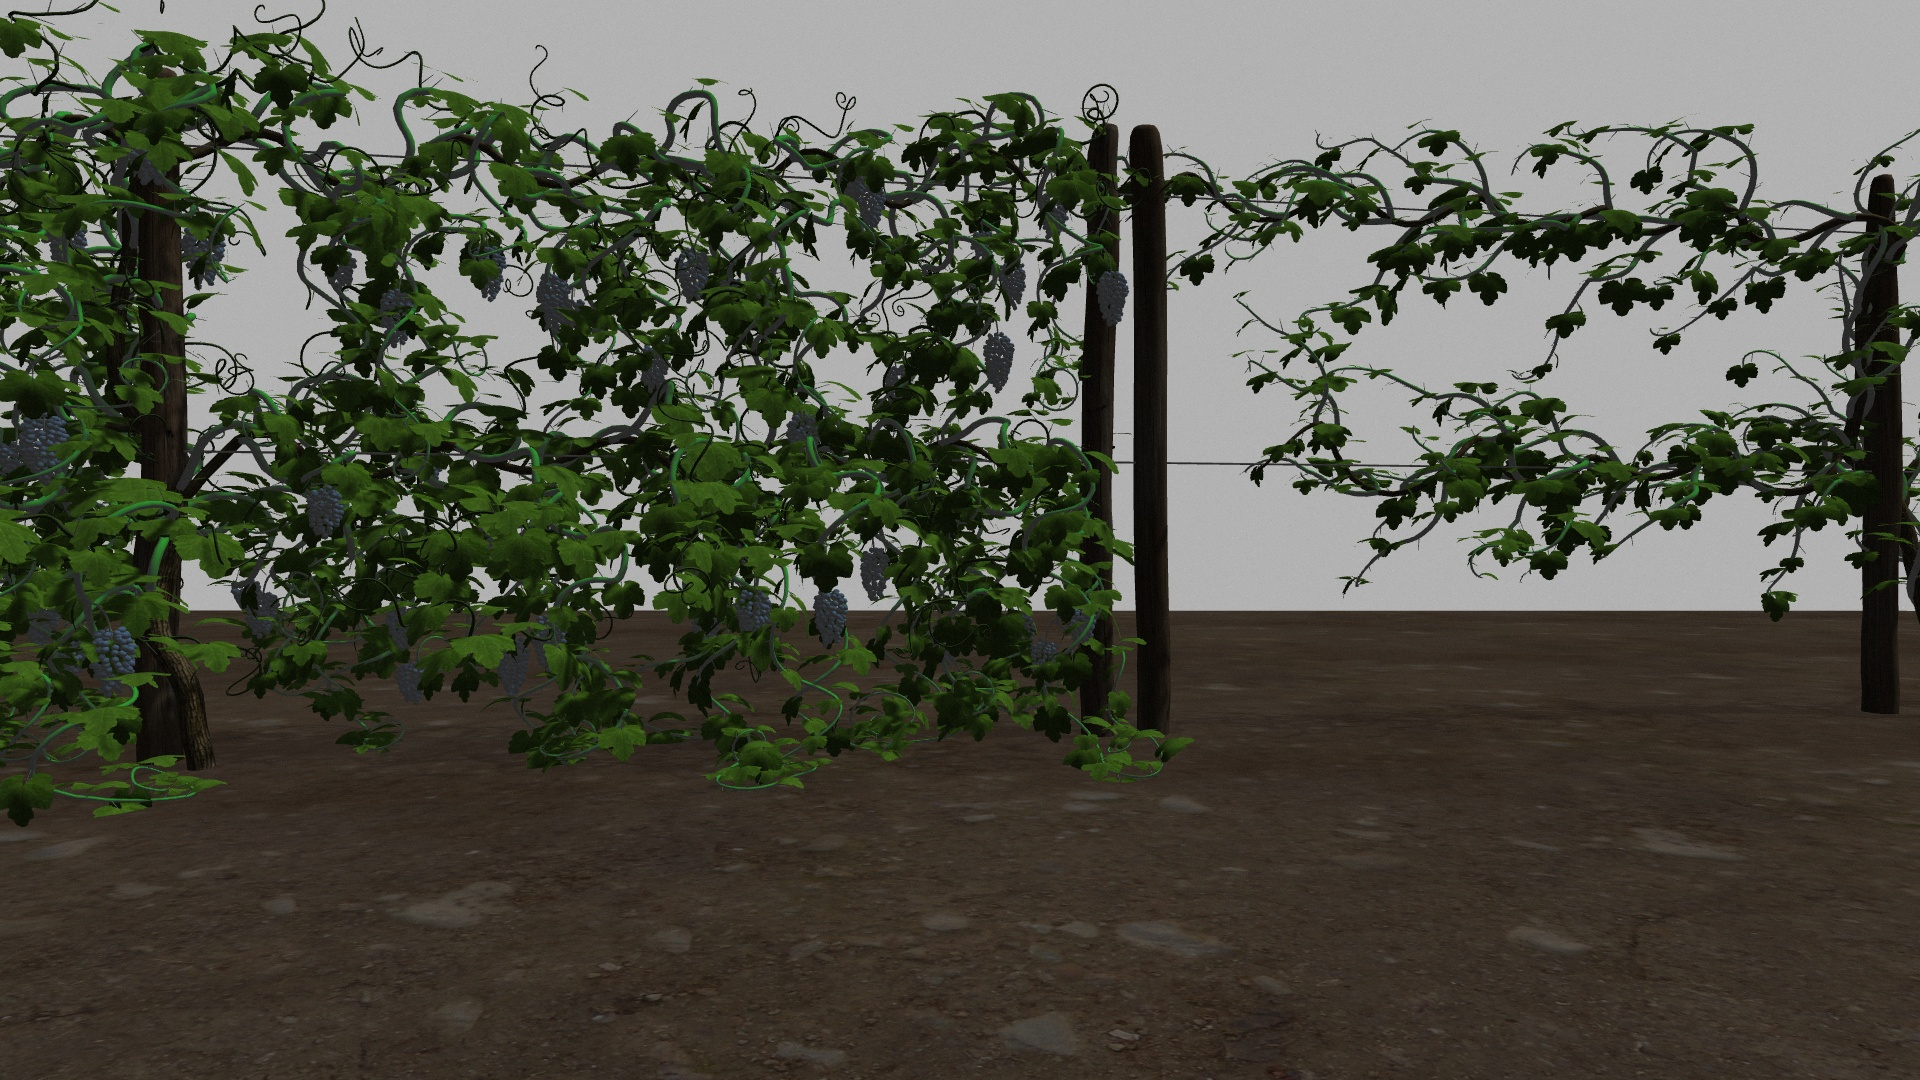grape: (88, 626, 136, 698), (18, 415, 69, 483), (179, 224, 225, 287), (535, 273, 571, 334), (305, 485, 345, 538), (531, 615, 566, 676), (496, 636, 529, 698), (1096, 269, 1129, 330), (982, 334, 1015, 394), (814, 589, 848, 647), (472, 245, 506, 302), (378, 289, 411, 347), (675, 249, 709, 303), (860, 547, 891, 603), (735, 589, 771, 633), (247, 592, 280, 640), (394, 662, 430, 704), (386, 608, 417, 651), (641, 348, 669, 396), (1000, 260, 1026, 305), (858, 187, 886, 229), (1069, 609, 1096, 647), (330, 253, 357, 289), (785, 414, 816, 442), (1033, 640, 1056, 665), (847, 178, 866, 200)
